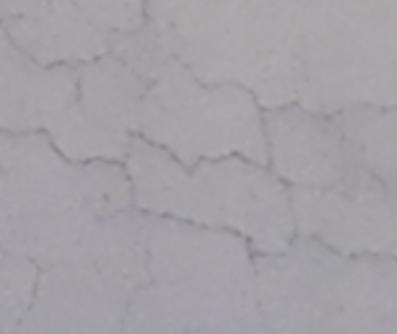fissura: (7, 19, 386, 282)
